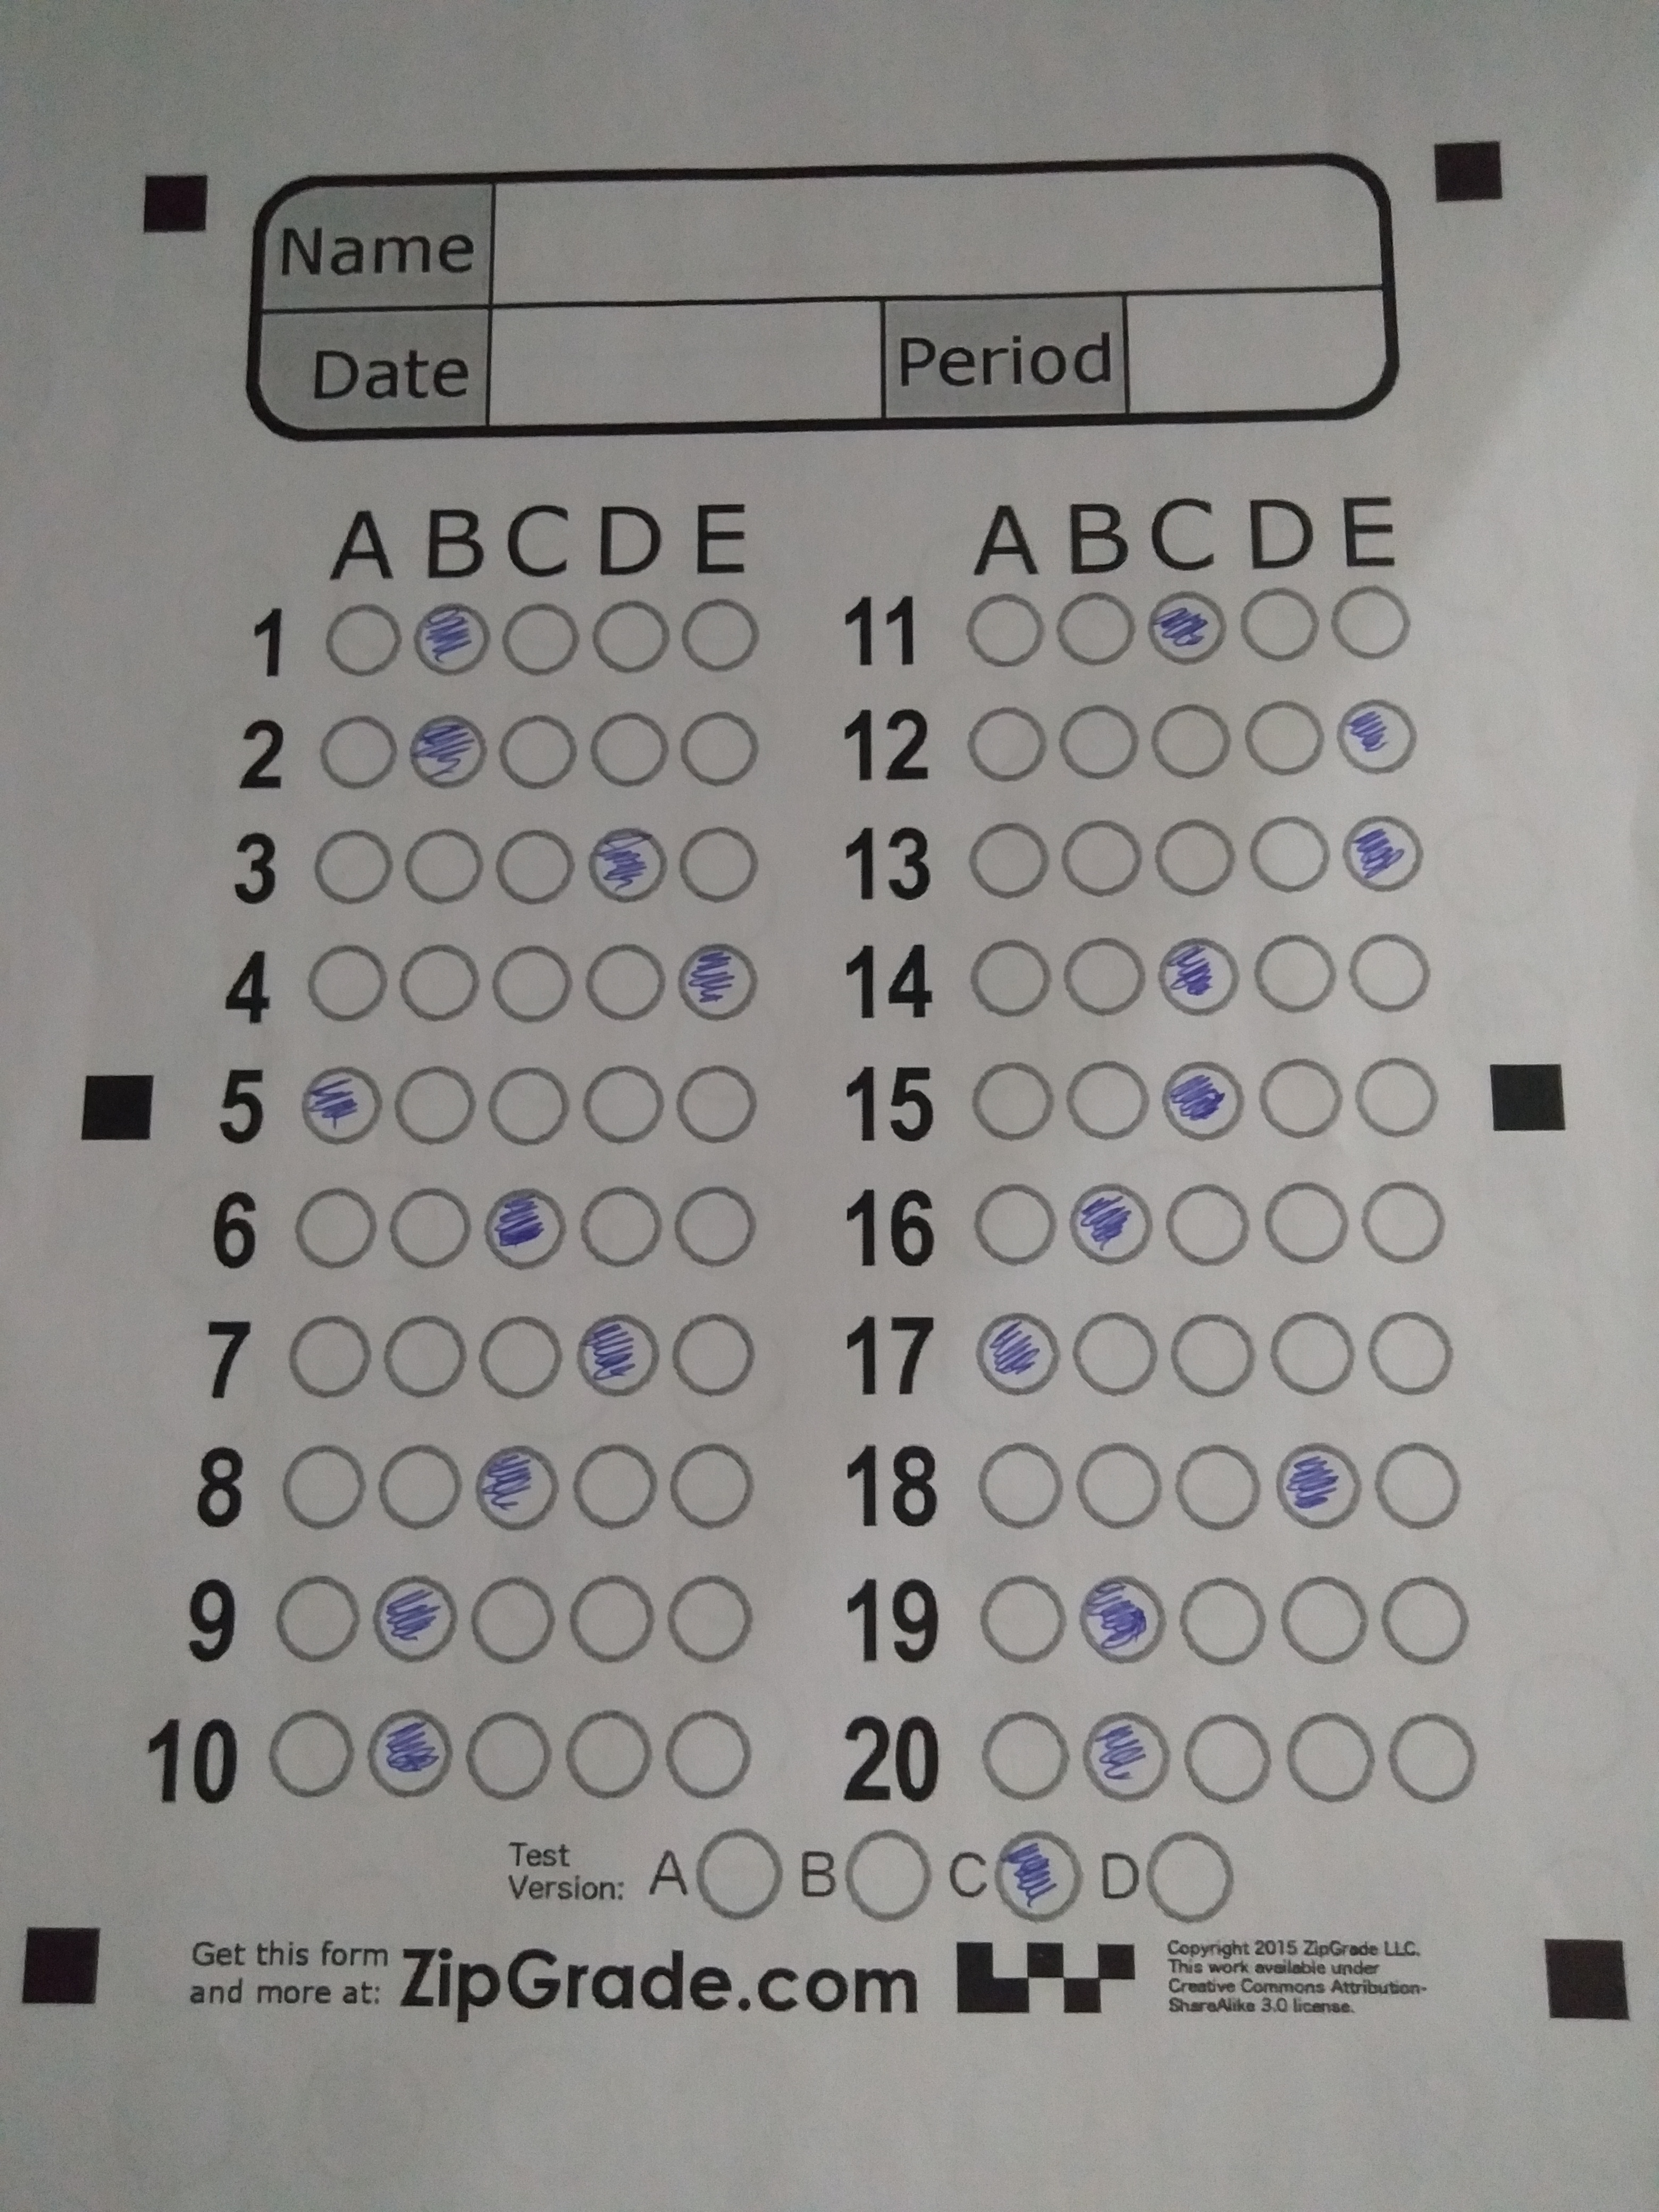not-c: (373, 1437, 467, 1538), (662, 1571, 758, 1667), (660, 1705, 756, 1801), (263, 1703, 359, 1799), (563, 1573, 657, 1669), (464, 1571, 558, 1667), (462, 1709, 556, 1804), (563, 1705, 657, 1801), (566, 1439, 662, 1533), (690, 1825, 784, 1921), (268, 1569, 362, 1663), (979, 1710, 1070, 1804), (667, 1439, 758, 1533), (1279, 1571, 1370, 1665), (1073, 1439, 1164, 1533), (1364, 1306, 1455, 1400), (1183, 1712, 1274, 1804), (277, 1442, 368, 1534), (1178, 1576, 1269, 1669), (978, 1575, 1068, 1667), (1169, 1440, 1260, 1533), (1269, 1305, 1359, 1397), (1168, 1308, 1258, 1400), (1260, 1176, 1351, 1268), (843, 1831, 932, 1923), (1147, 1829, 1236, 1921), (1385, 1712, 1474, 1804), (1286, 1712, 1375, 1804), (1380, 1575, 1469, 1667), (1373, 1440, 1462, 1533), (976, 1440, 1065, 1533), (1070, 1305, 1159, 1397), (1359, 1176, 1448, 1268), (1162, 1176, 1251, 1268), (971, 1176, 1060, 1268), (1352, 1055, 1439, 1141), (1251, 928, 1338, 1014), (1061, 930, 1148, 1015), (965, 935, 1053, 1021), (284, 1315, 371, 1400), (382, 1312, 469, 1397), (476, 1315, 563, 1400), (671, 1312, 758, 1397), (288, 1186, 375, 1271), (669, 1183, 756, 1268), (484, 1062, 572, 1148), (580, 1062, 667, 1148), (674, 1061, 762, 1146), (579, 941, 666, 1026), (488, 939, 575, 1024), (392, 941, 479, 1026), (301, 937, 389, 1022), (1065, 1055, 1150, 1141), (1347, 928, 1432, 1014), (387, 1186, 472, 1271), (579, 1184, 664, 1270), (969, 1059, 1056, 1143), (1260, 1057, 1347, 1141), (390, 1064, 477, 1148), (1150, 700, 1236, 780), (314, 711, 399, 791), (1053, 585, 1138, 665), (591, 597, 674, 678), (676, 822, 760, 902), (1248, 813, 1331, 894), (1154, 817, 1237, 897), (1060, 819, 1143, 899), (967, 820, 1051, 900), (1237, 585, 1321, 665), (399, 826, 484, 904), (1241, 698, 1326, 777), (676, 711, 762, 789), (587, 711, 673, 789), (321, 599, 406, 678), (1328, 580, 1413, 658), (498, 599, 582, 678), (490, 824, 573, 902), (312, 826, 396, 904), (1056, 702, 1140, 780), (497, 711, 580, 789), (962, 705, 1046, 784), (962, 592, 1046, 671), (680, 597, 763, 676)
taken-c: (469, 1442, 568, 1533), (357, 1707, 457, 1797), (990, 1829, 1089, 1919), (366, 1573, 465, 1663), (1270, 1440, 1364, 1534), (971, 1308, 1065, 1400), (1072, 1575, 1166, 1667), (1080, 1709, 1173, 1801), (573, 1310, 664, 1400), (293, 1062, 387, 1150), (582, 820, 674, 907), (671, 937, 763, 1024), (477, 1186, 568, 1271), (1063, 1177, 1152, 1263), (1333, 691, 1420, 777), (1154, 934, 1243, 1017), (1157, 1059, 1244, 1141), (404, 711, 490, 792), (1143, 590, 1234, 667), (1342, 813, 1429, 892), (411, 596, 493, 676)
